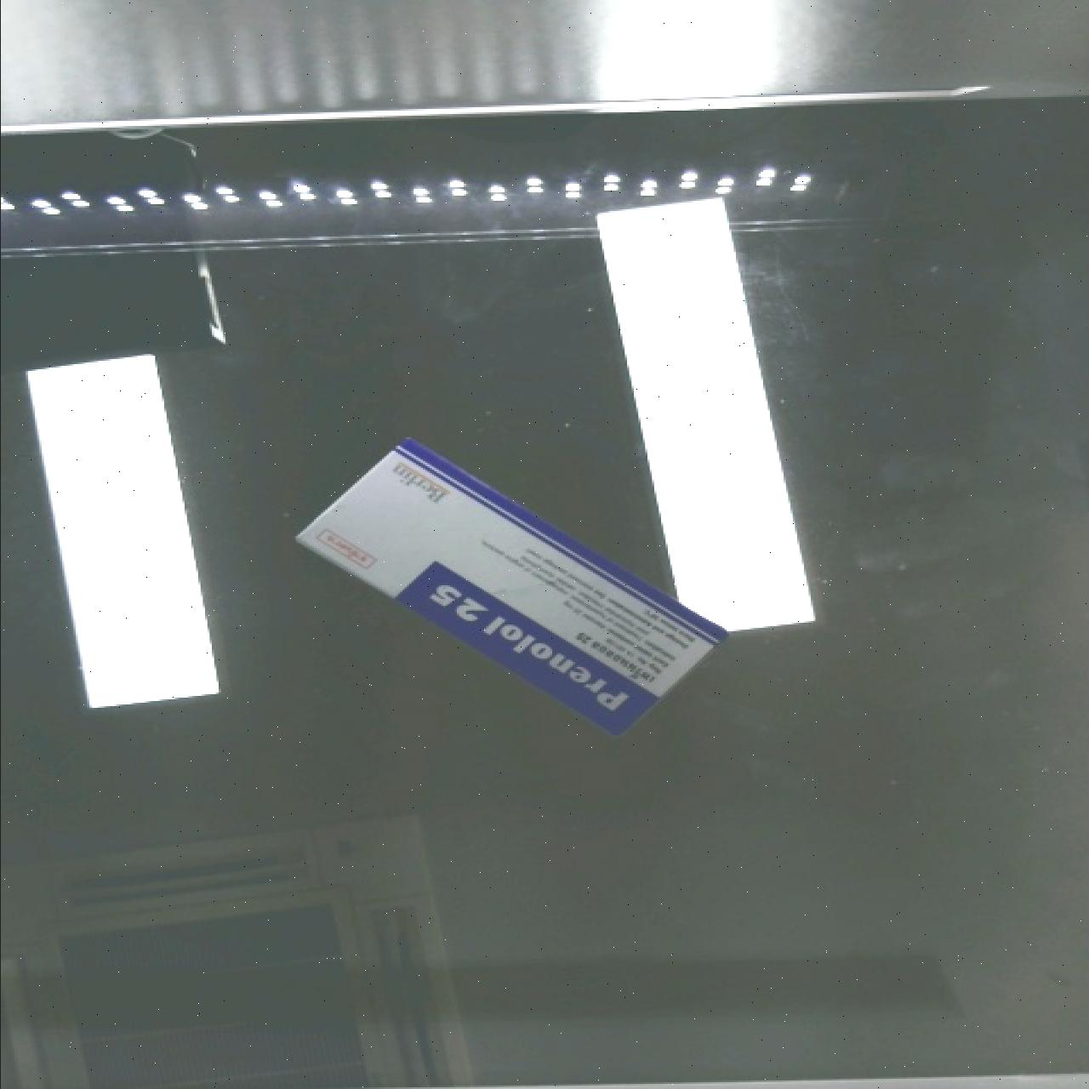medicine_label_obb: (394, 556, 659, 744)
